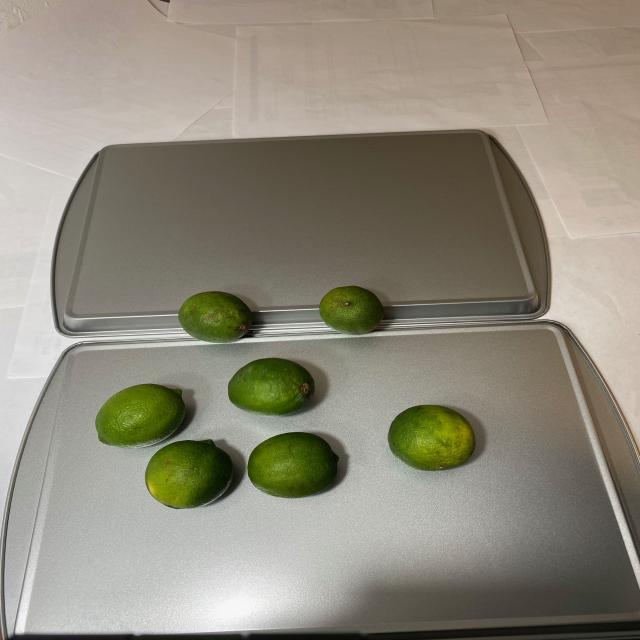lemon: (93, 282, 480, 512)
